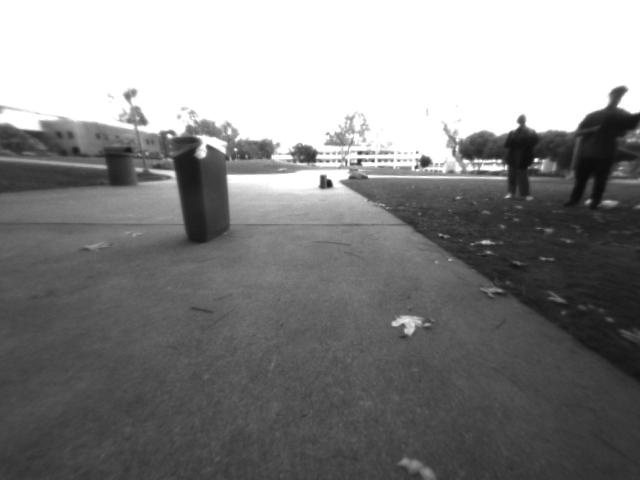trashcan_open: (168, 132, 236, 244)
